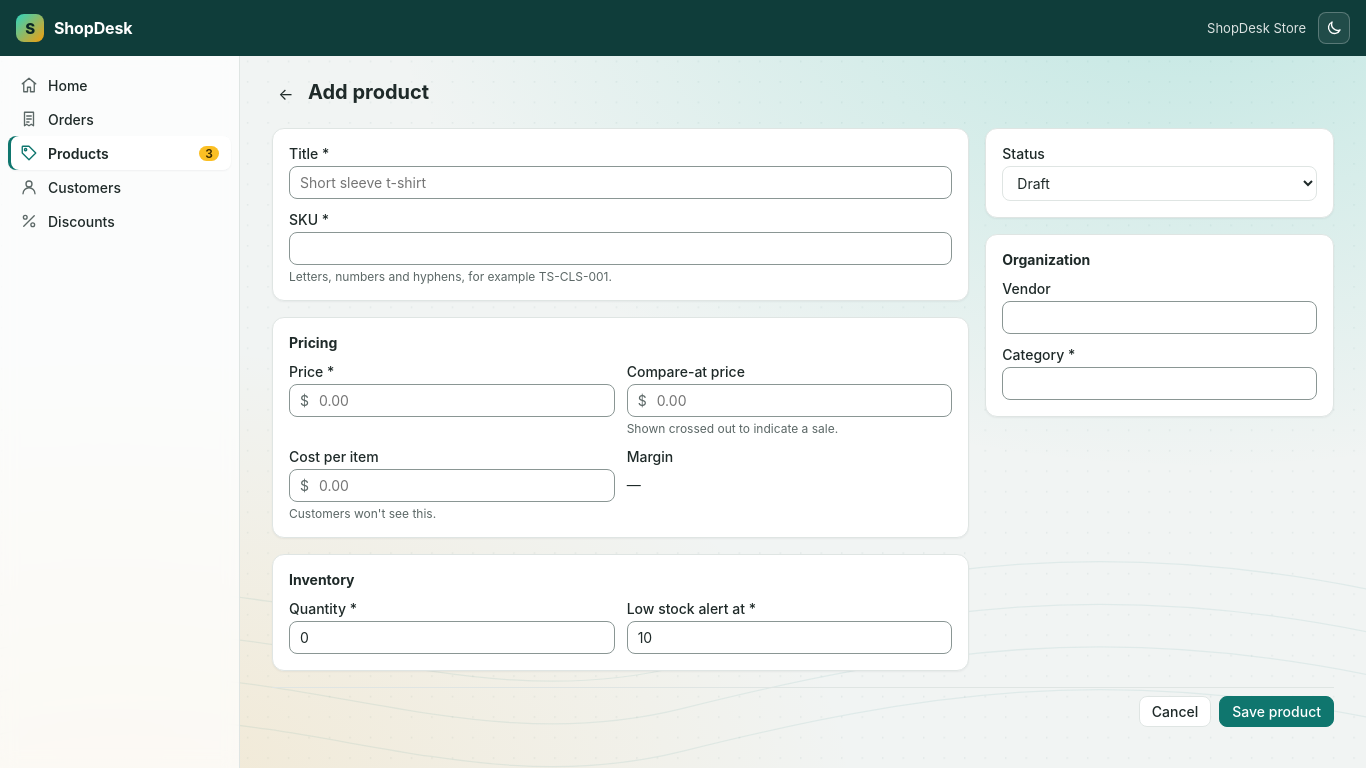
it: creating a product › opens the new product after saving and adds it to the list
The image size is (1366, 768).
Type "Recycled Notebook" into the field labelled "Title *" at (621, 182), box [290,167,951,198]
Type "st-ntb-011" into the field labelled "SKU *" at (621, 248), box [290,233,951,264]
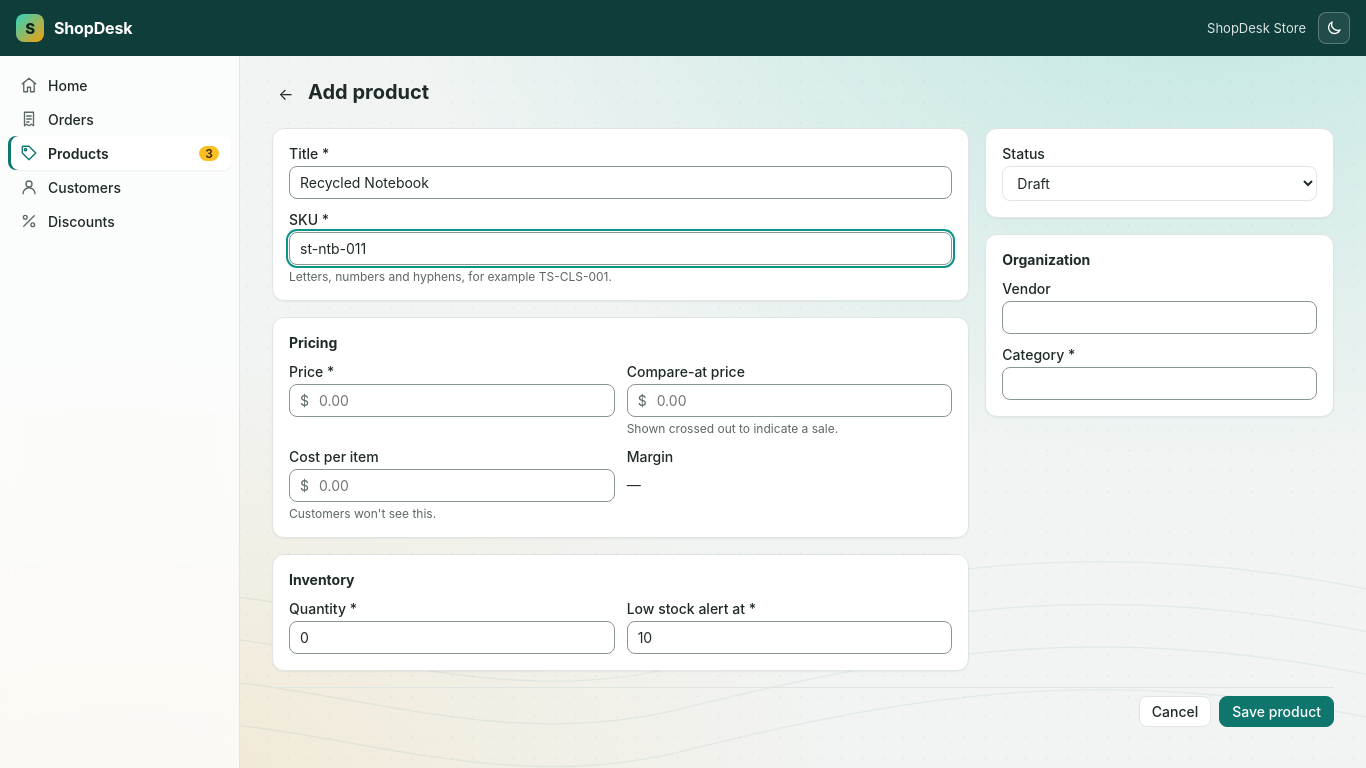
Type "12.50" into the field labelled "Price *" at (461, 400), box [309,385,614,416]
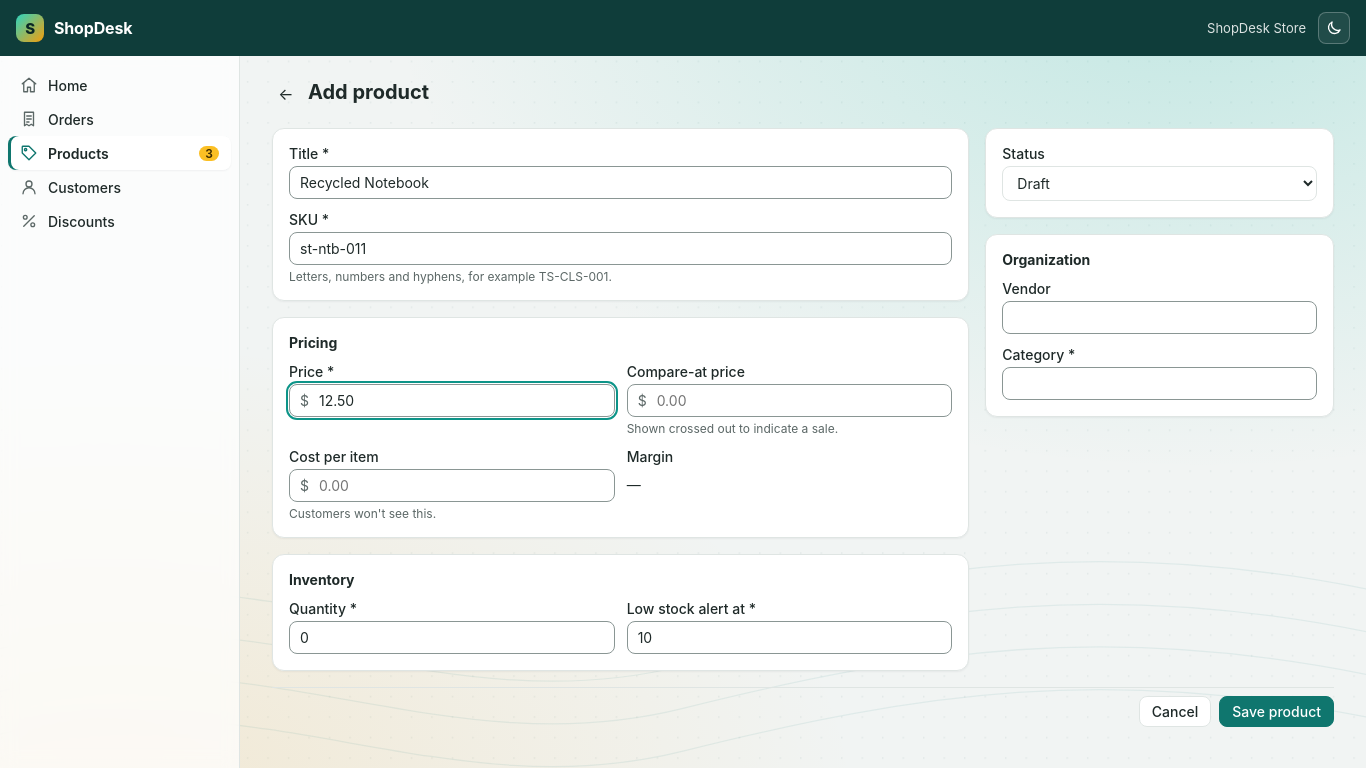
Type "Stationery" into the field labelled "Category *" at (1160, 384), box [1003,368,1316,399]
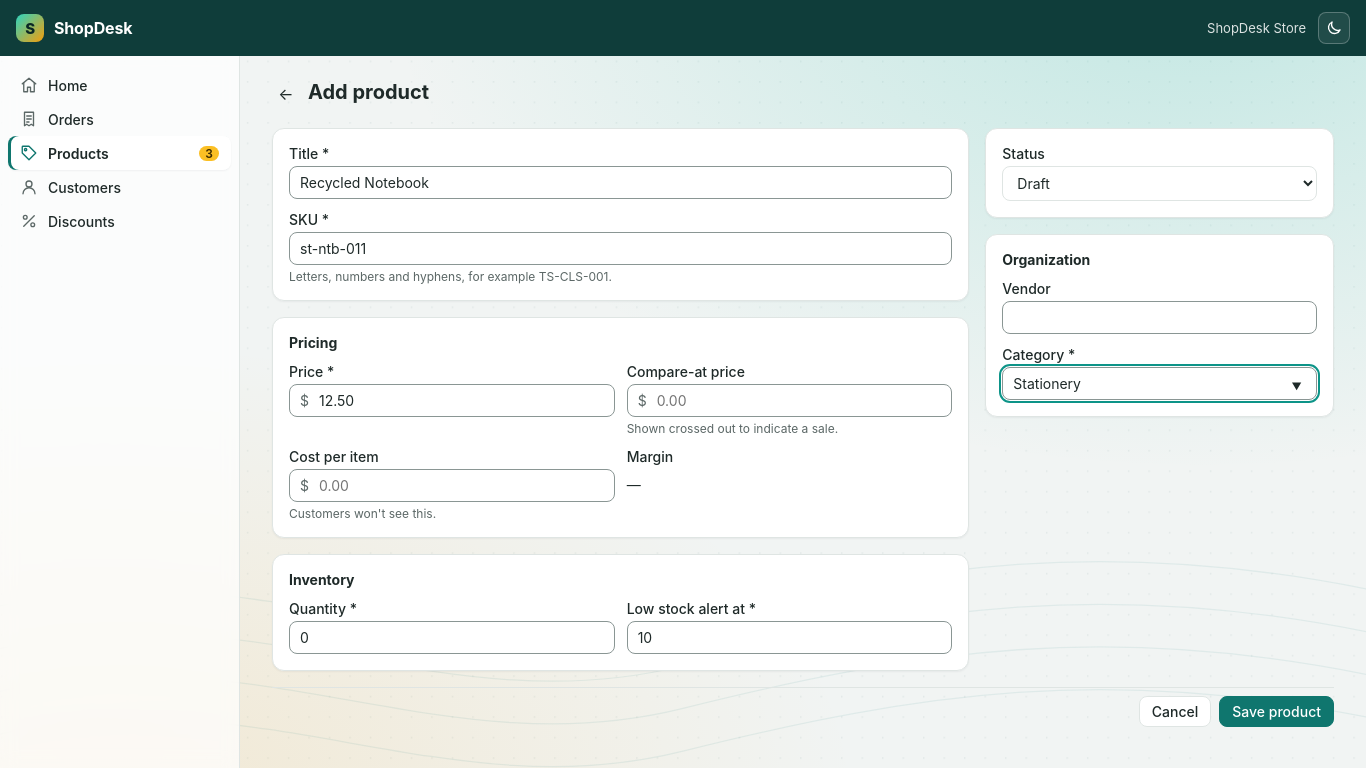
Click the button "Save product" at (1277, 712), box [1219,696,1334,727]
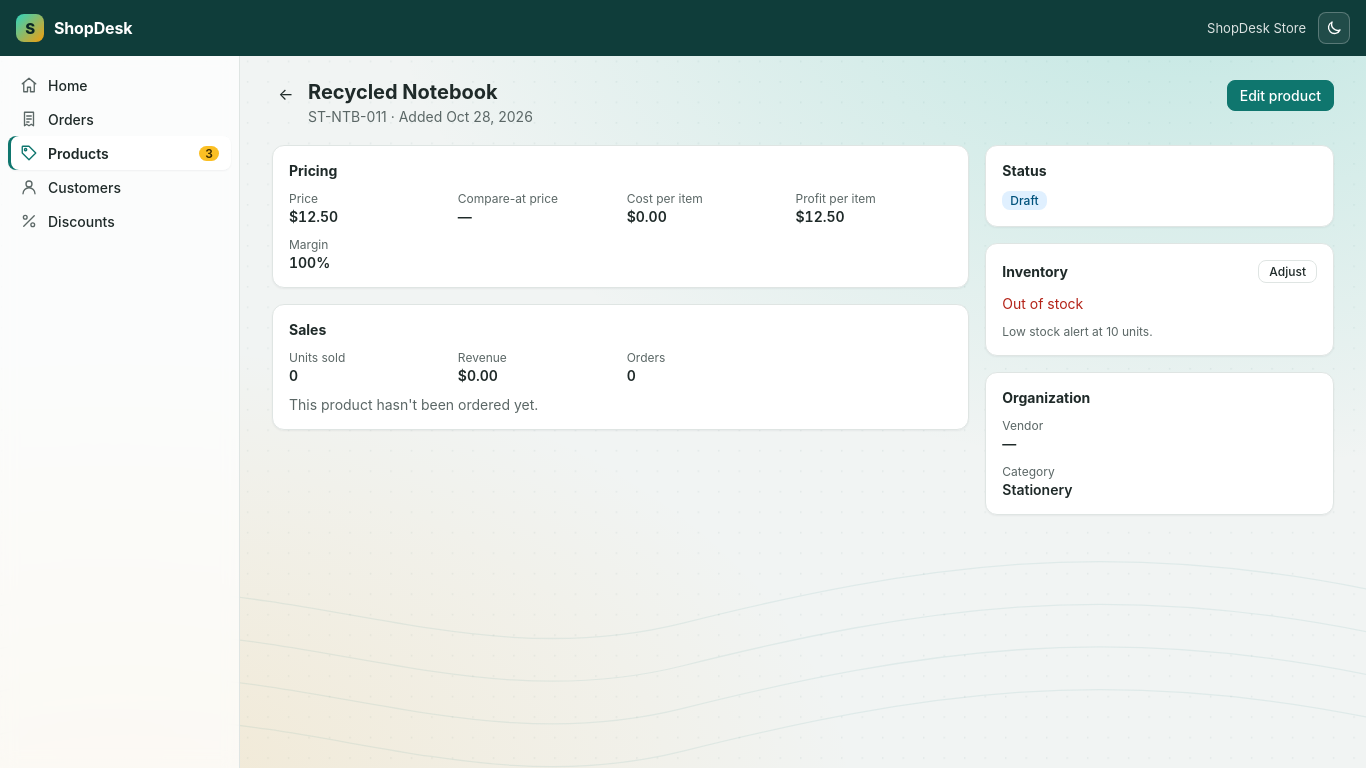
Expected: the heading "Recycled Notebook" is shown, [308,80,498,104]
Expected: the text "ST-NTB-011 · Added Oct 28, 2026" is shown, [308,108,533,125]
Click the link named "Back to products" at (286, 94), box [278,84,294,104]
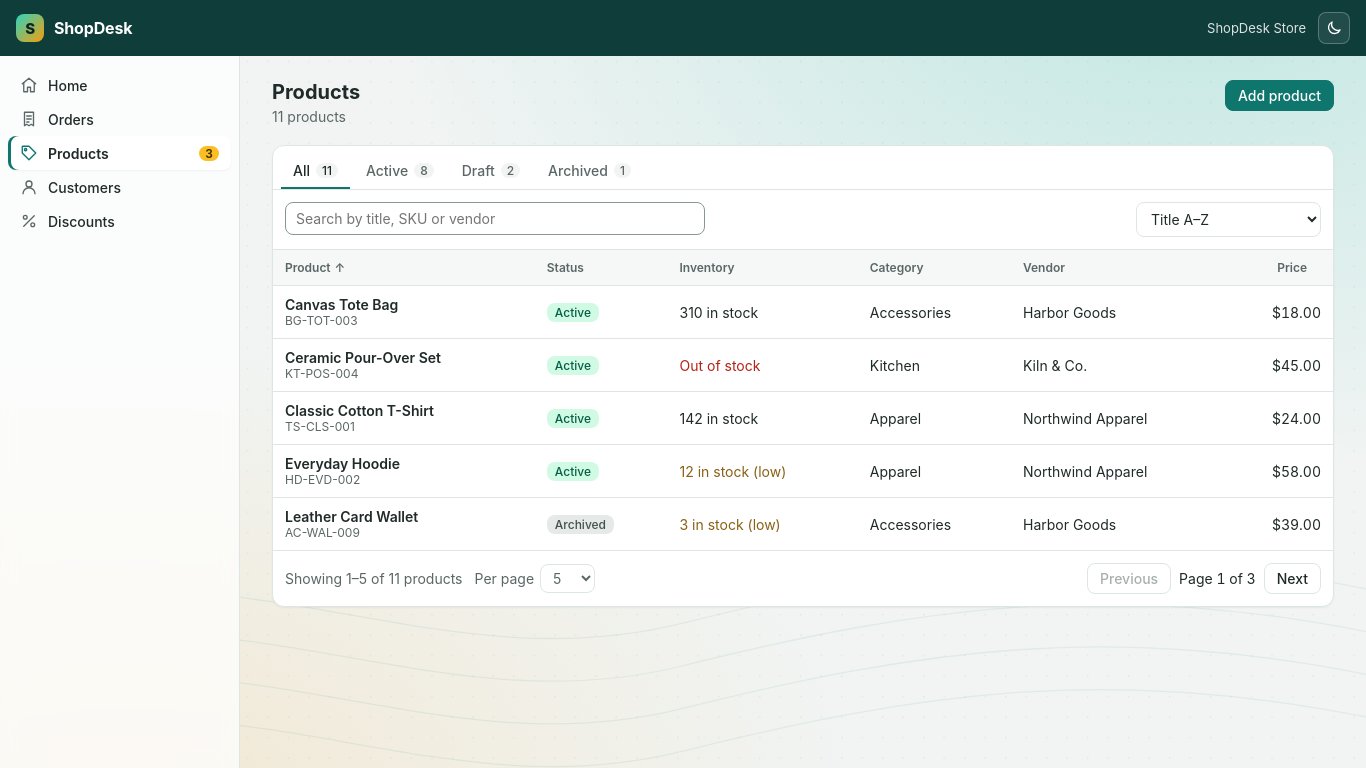
Expected: the text "11 products" is shown, [272,108,346,125]
Type "notebook" into the search field named "Search products" at (495, 218), box [285,202,705,235]
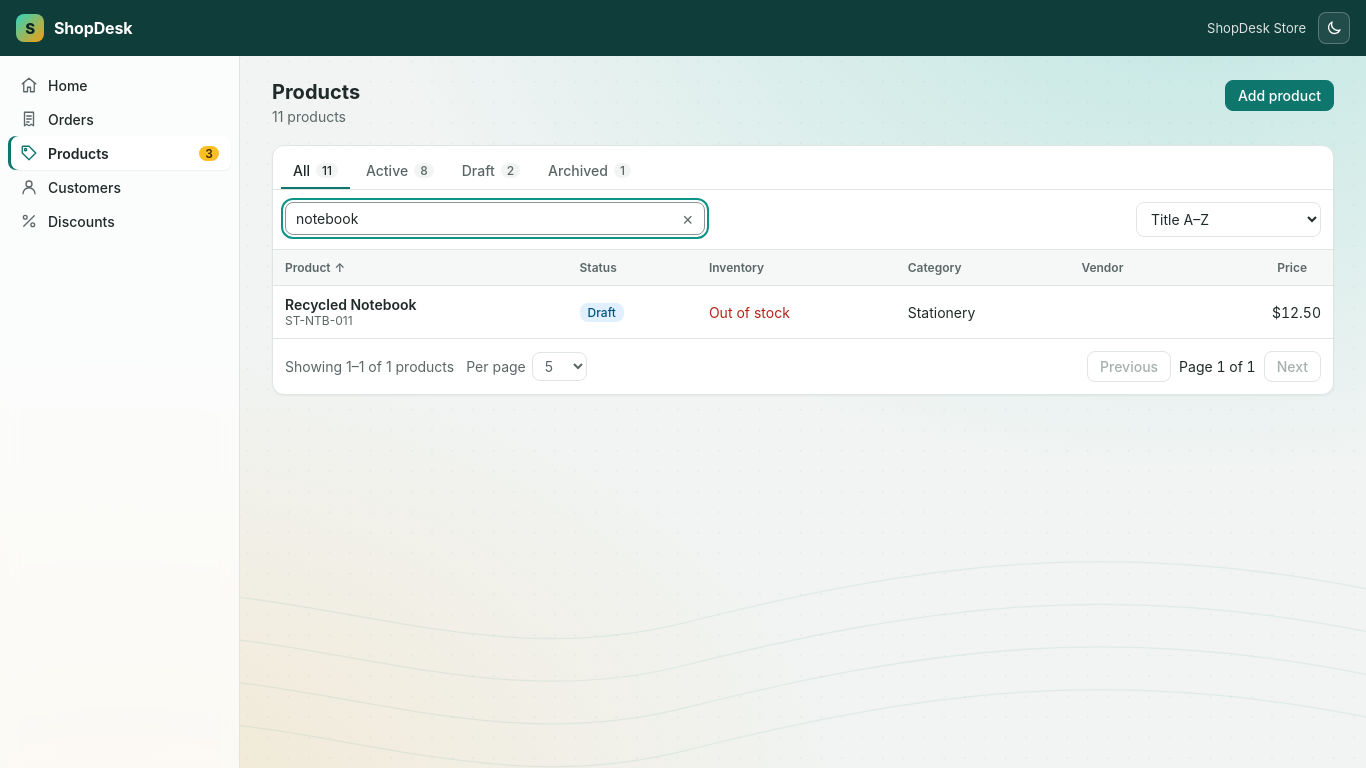
Expected: the link "Recycled Notebook" is shown, [285,296,416,313]
